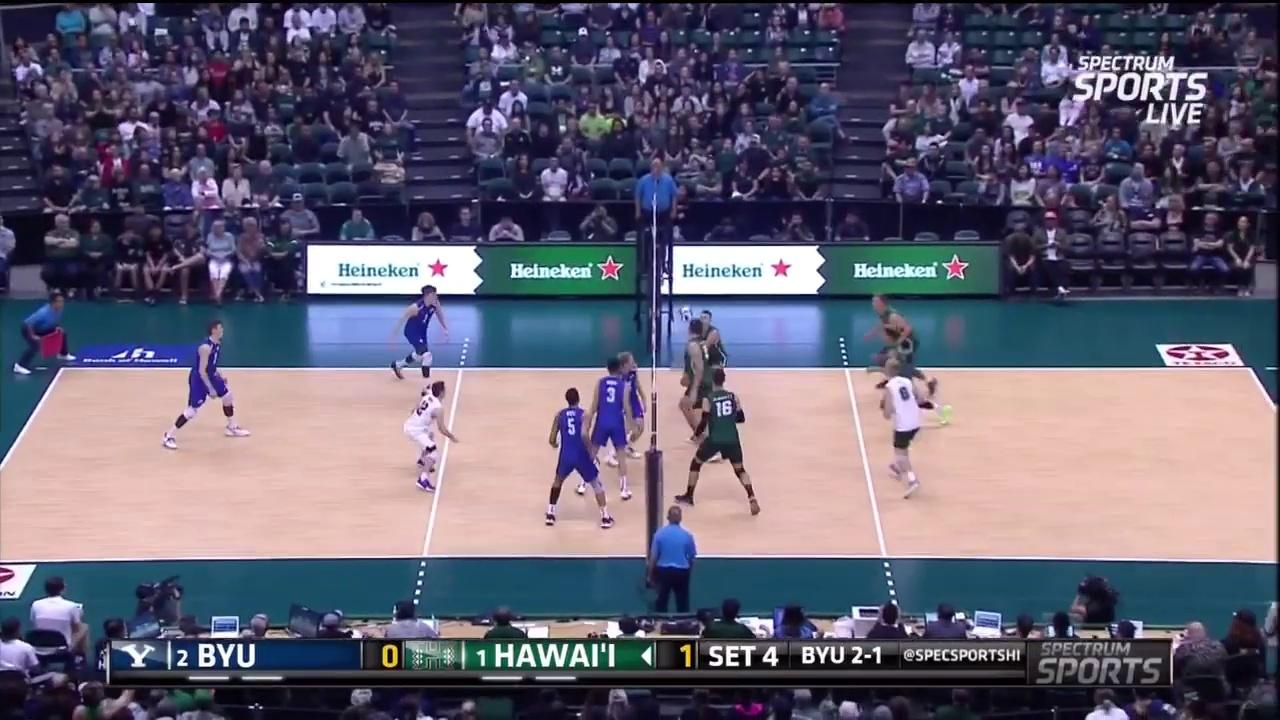player: (680, 370, 764, 514), (164, 324, 249, 443), (541, 389, 612, 526), (863, 282, 939, 393), (872, 359, 932, 498), (871, 326, 950, 431), (591, 353, 634, 504), (678, 319, 728, 443), (409, 384, 458, 492), (393, 284, 445, 378), (687, 310, 730, 408), (616, 345, 649, 461)
refree: (643, 503, 700, 614), (632, 152, 681, 261), (12, 290, 68, 373)
